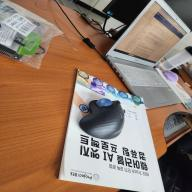mouse: (79, 98, 125, 140)
